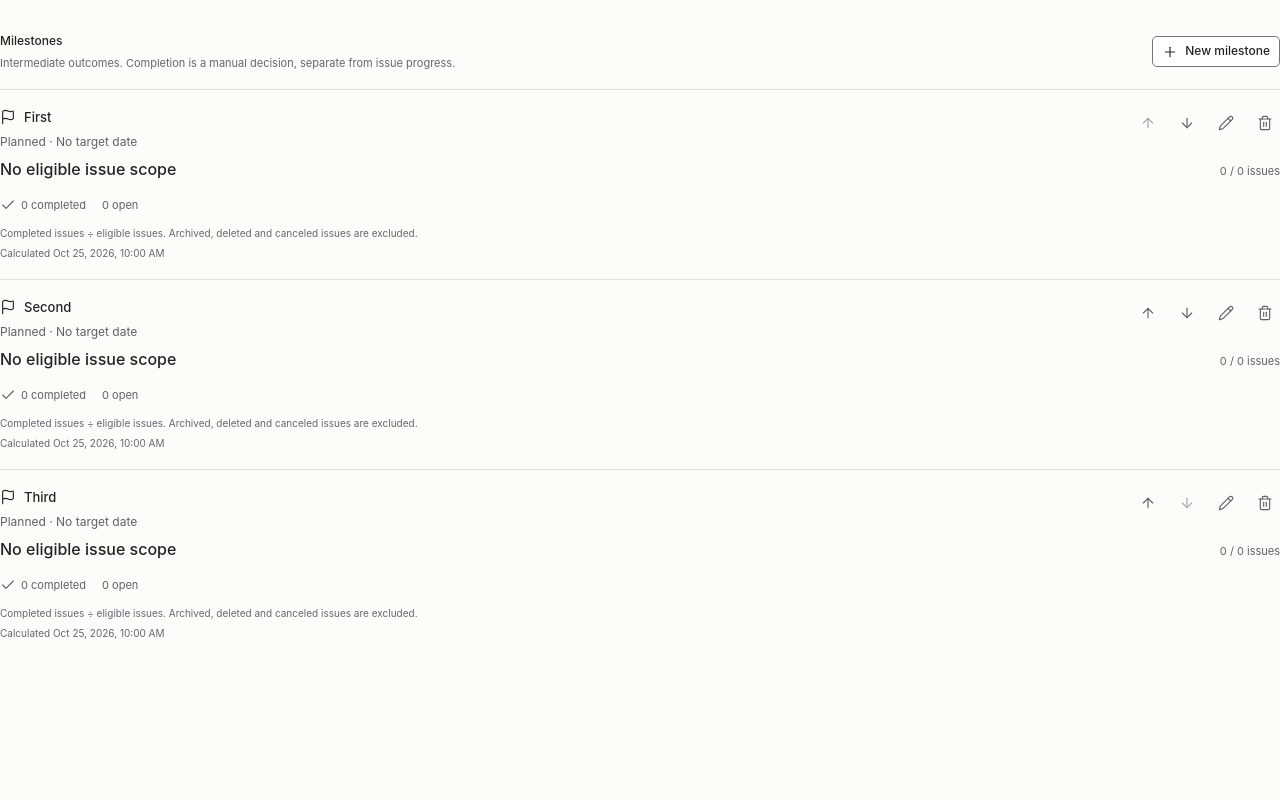
cannot apply a retained milestone move after its anchor disappears or a later order page fails
The image size is (1280, 800).
Click the button named "Move Second up" at (1148, 313), box top-left (1132, 298), bottom-right (1163, 328)
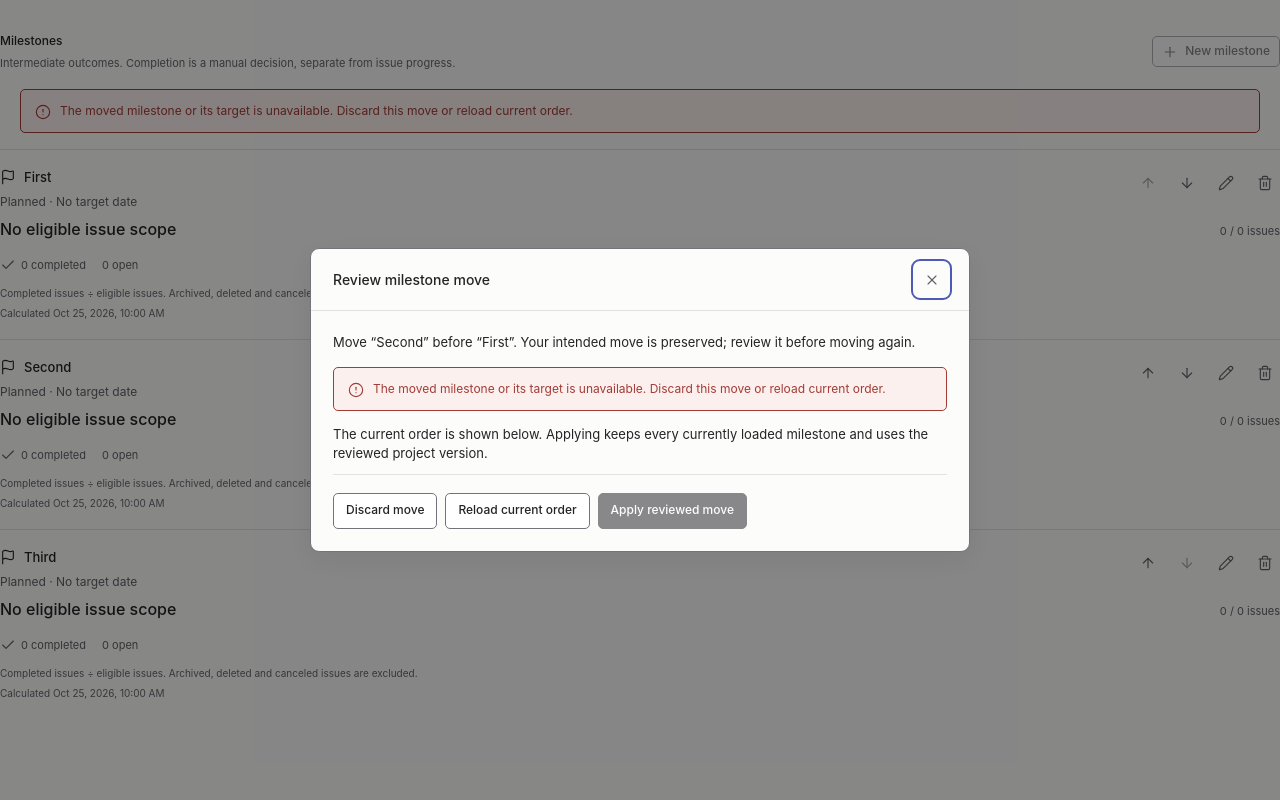
Click the button "Reload current order" at (518, 511), box top-left (445, 493), bottom-right (590, 529)
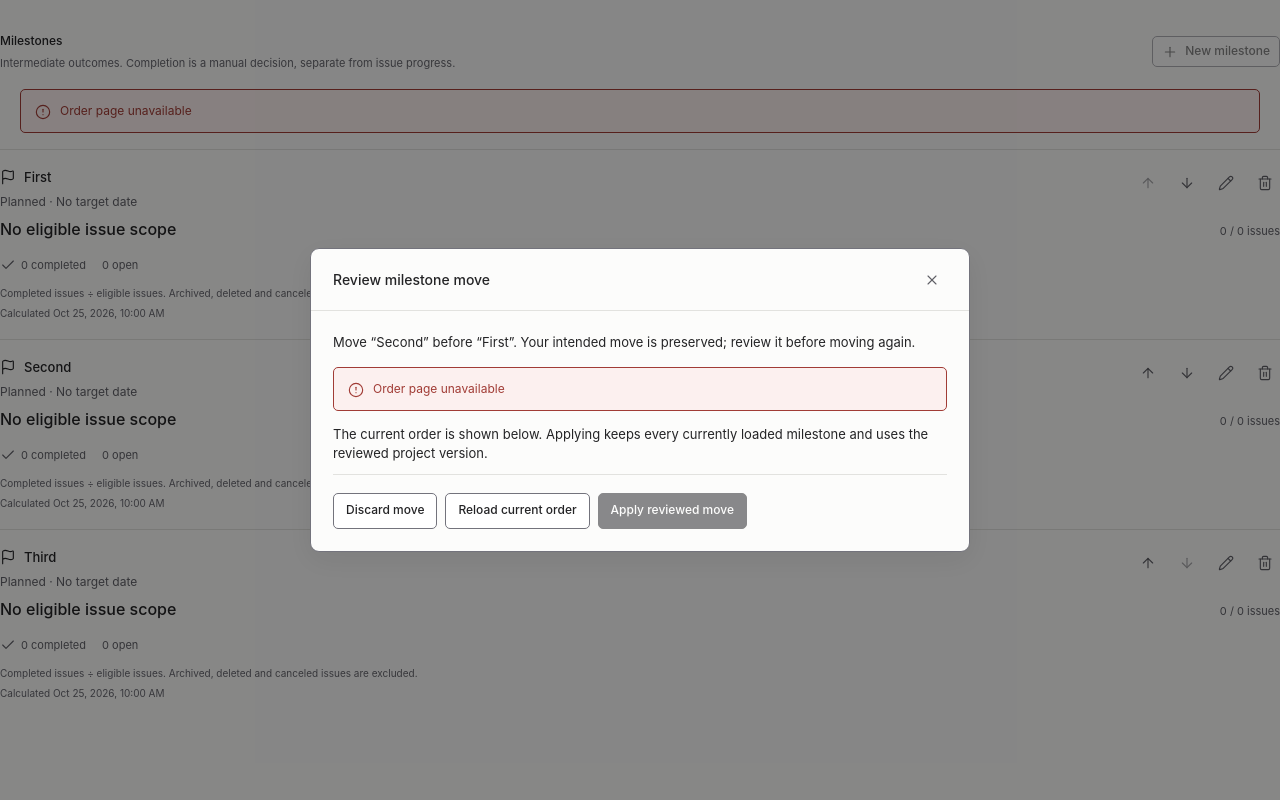
Now the text "Order page unavailable" is shown, box top-left (60, 102), bottom-right (192, 118)
